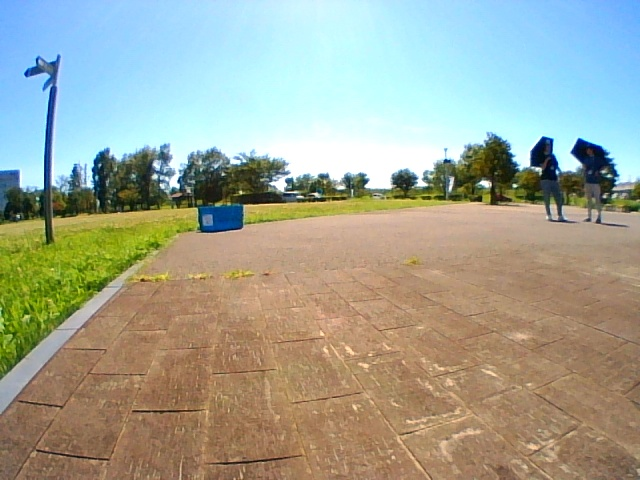blue_box: (198, 205, 242, 231)
tag: (203, 214, 213, 225)
